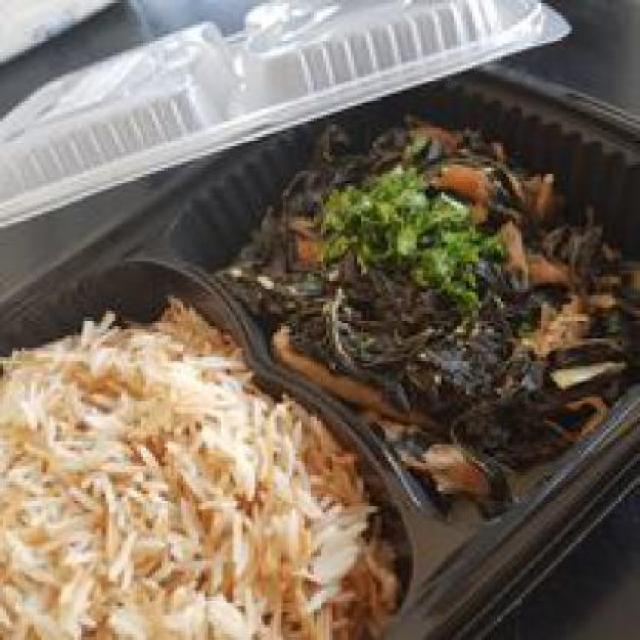molokhia: (241, 106, 637, 492)
